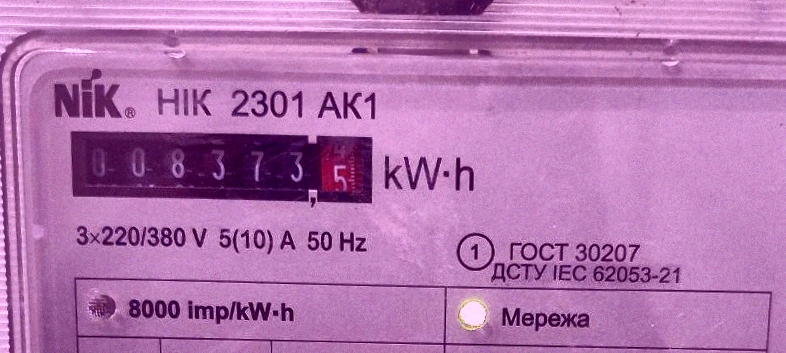0: (88, 143, 108, 180), (128, 143, 147, 180)
3: (284, 147, 307, 185), (207, 145, 228, 183)
4: (330, 141, 349, 161)
5: (330, 162, 350, 192)
7: (246, 145, 265, 185)
8: (167, 144, 188, 181)
screen: (63, 122, 382, 217)
